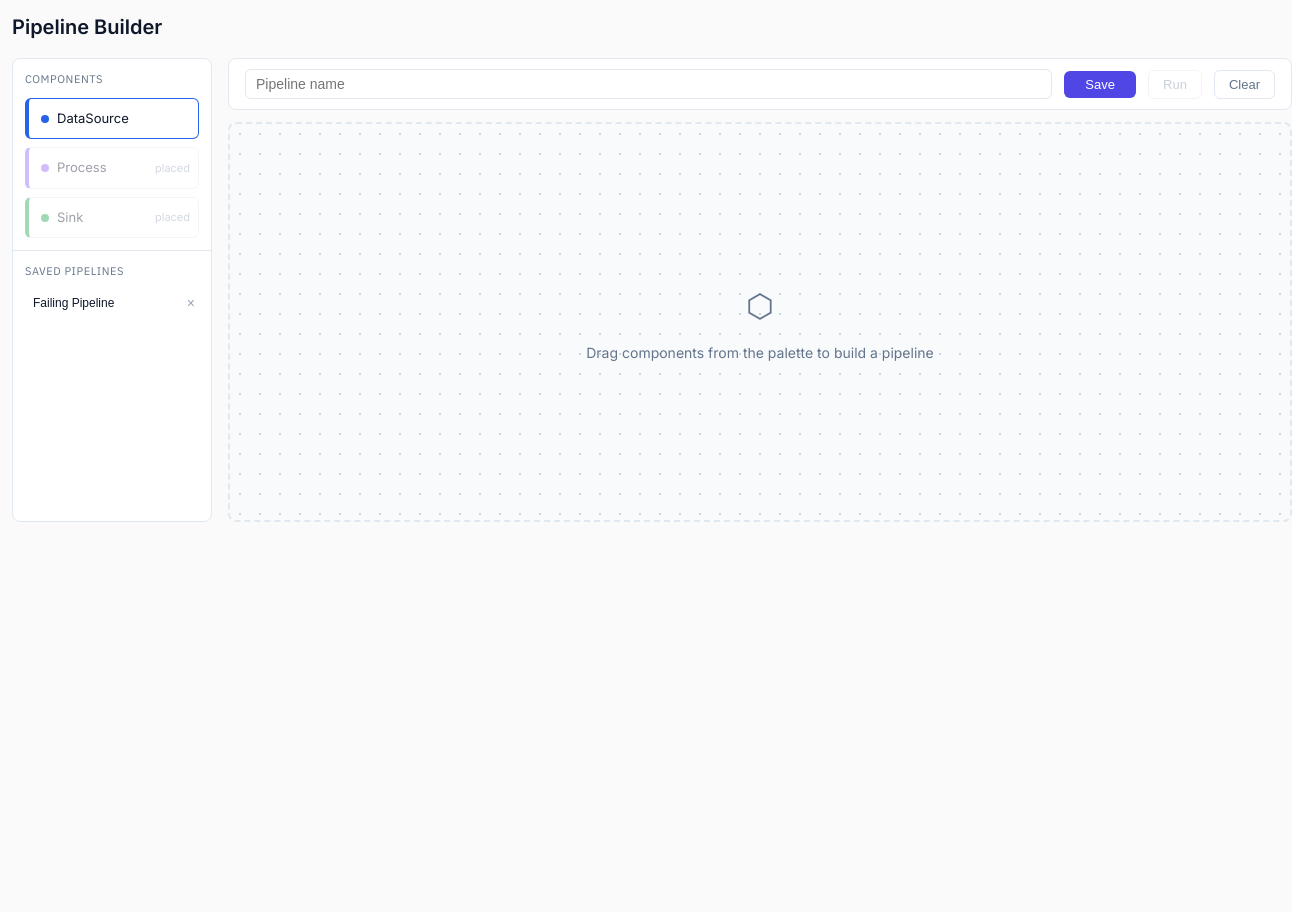
AC2 — edit action loads pipeline onto canvas › shows a toast error when getPipeline fails
Click the button "Failing Pipeline".
click(102, 302)  # box [25,290,179,316]
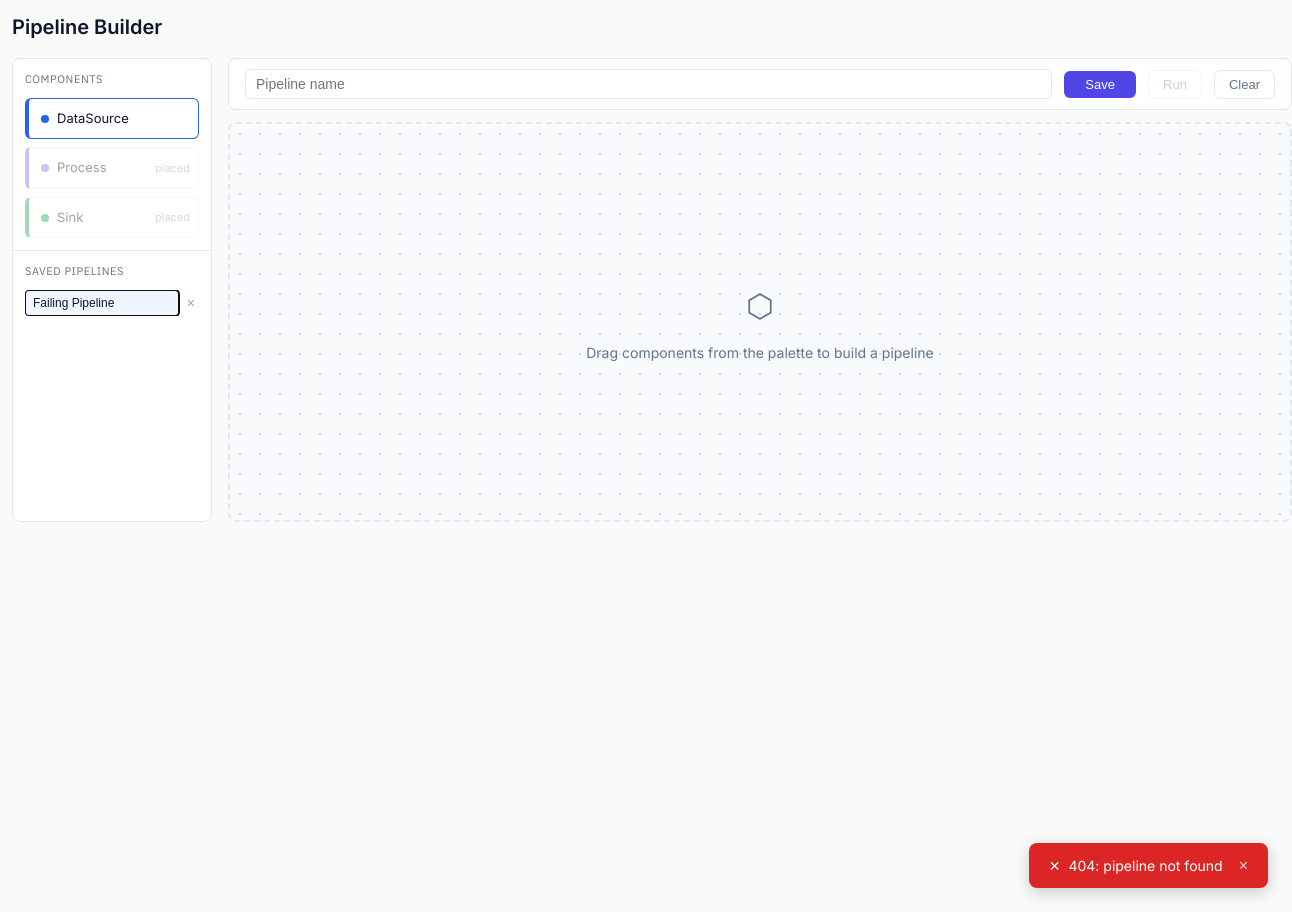
Check: the message "✕ 404: pipeline not found ×" is shown, box [1029,843,1268,888]
Check: the text "404: pipeline not found" is shown, box [1068,855,1223,876]
